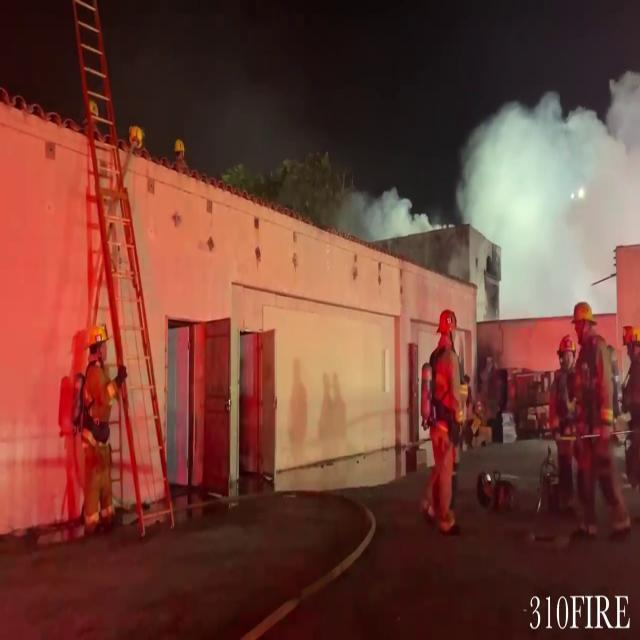Smoke: (462, 60, 640, 276), (321, 176, 432, 244)
